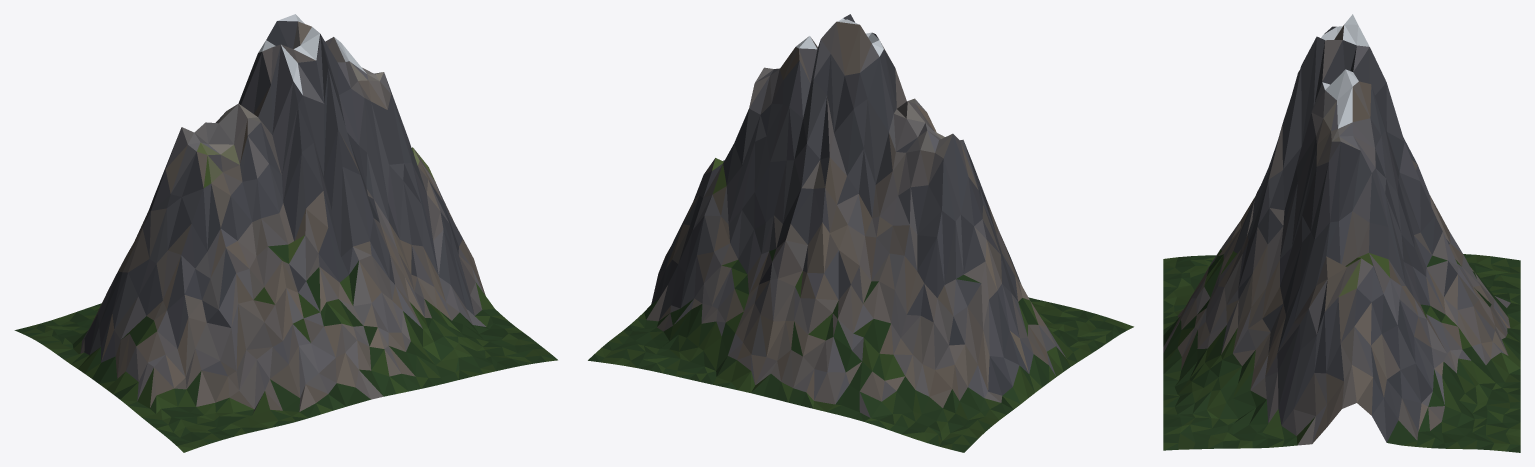
The model's file is mountain_peak_snow.glb.
3 views of the same model, side by side, from view 1: azimuth 30°, elevation 25°; view 2: azimuth 150°, elevation 25°; view 3: azimuth 270°, elevation 25° (orthographic). The views are drawn at different scales.
Parts seen in each view (by area): view 1: mountain_peak_snow; view 2: mountain_peak_snow; view 3: mountain_peak_snow.
Boxes of the visible parts, x1=… form: mountain_peak_snow: x1=14, y1=14, x2=557, y2=452; mountain_peak_snow: x1=588, y1=14, x2=1133, y2=452; mountain_peak_snow: x1=1163, y1=14, x2=1520, y2=452.
Bounding box in the file's own units: 120 × 98.8 × 94.
